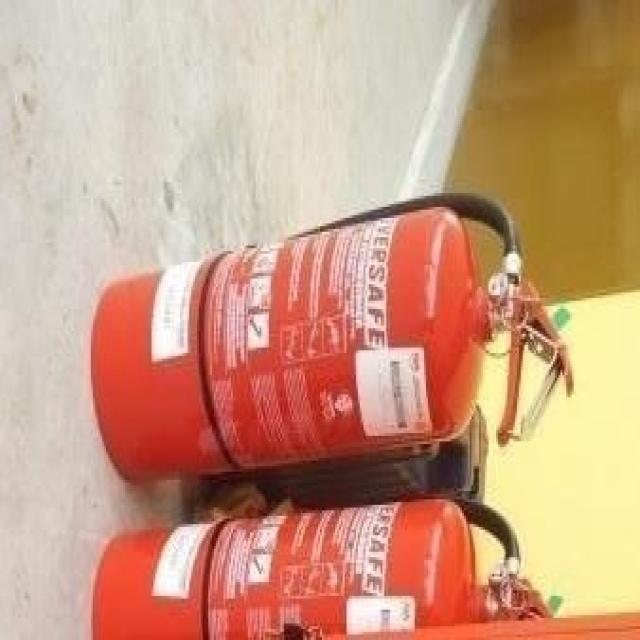fire_extinguisher: (86, 183, 577, 487), (82, 486, 560, 637)
